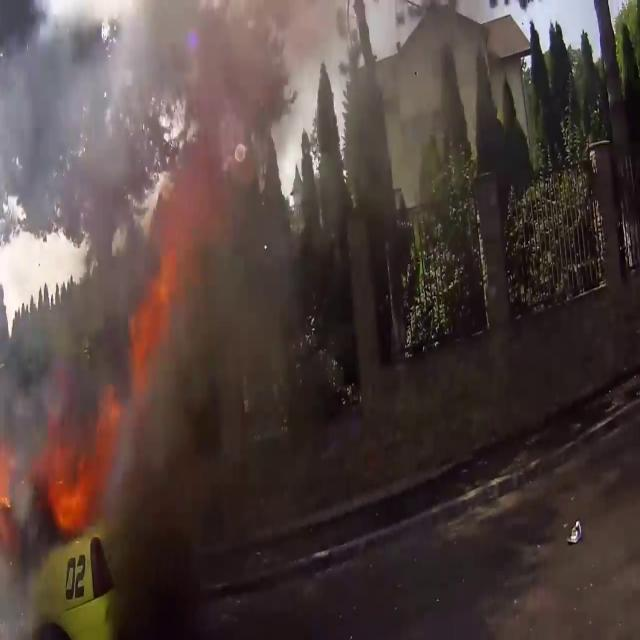Smoke: (0, 0, 314, 612)
